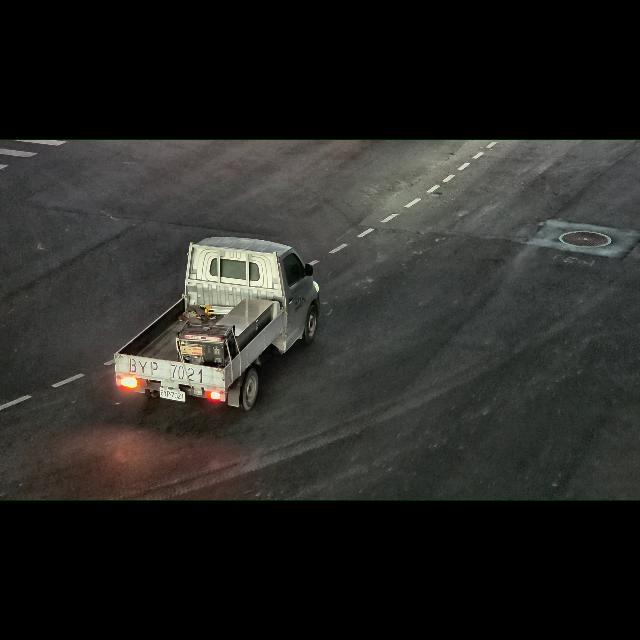license_plate: (160, 387, 185, 403)
truck: (110, 231, 336, 424)
